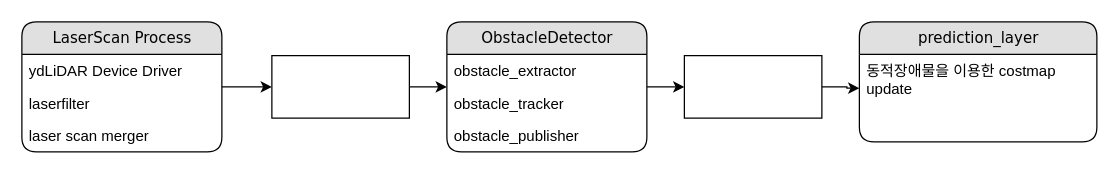
The diagram is 1119 pixels wide and 178 high, and some of its shapes have lost their labels. Each missing label, with the centre of its shape:
obstacle_detctor/ Obstacles: the point at 752,86
sensor_msgs/ LaserScan: the point at 340,86
